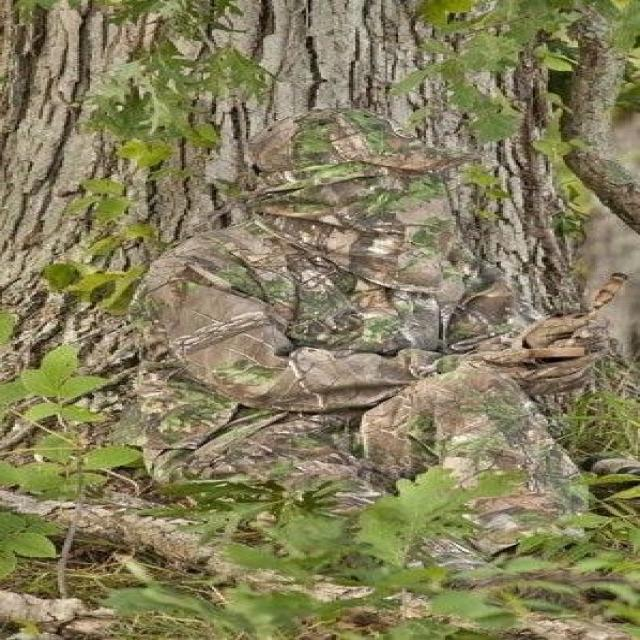Human: (126, 111, 600, 524)
